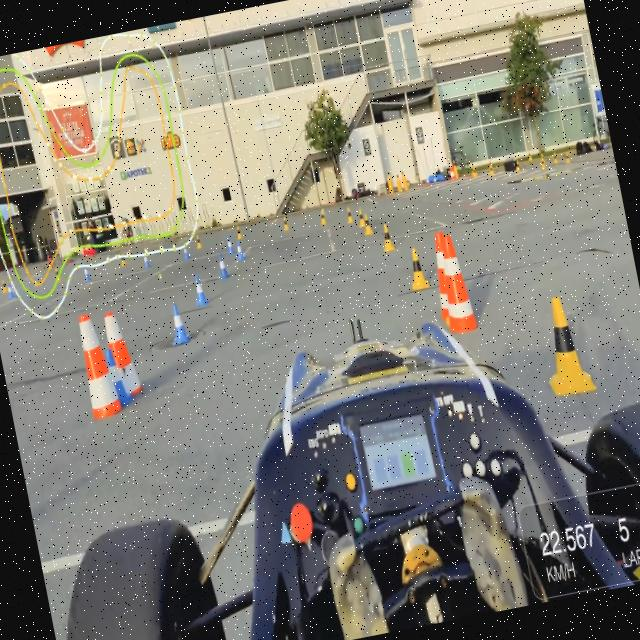blue_cone: (99, 346, 134, 412), (169, 302, 191, 342), (192, 272, 209, 306), (216, 252, 230, 278), (234, 239, 247, 262), (224, 234, 237, 256), (5, 280, 16, 300), (182, 242, 192, 261), (82, 264, 91, 280), (144, 254, 150, 268)
large_orange_cone: (74, 308, 124, 422), (434, 233, 479, 336), (100, 308, 144, 399), (426, 230, 466, 323)
yellow_cone: (535, 292, 594, 398), (406, 246, 430, 292), (380, 222, 396, 252), (362, 213, 374, 237), (356, 207, 367, 228), (318, 208, 328, 226), (345, 206, 355, 224), (236, 223, 244, 240), (195, 232, 203, 248), (282, 214, 290, 230)
